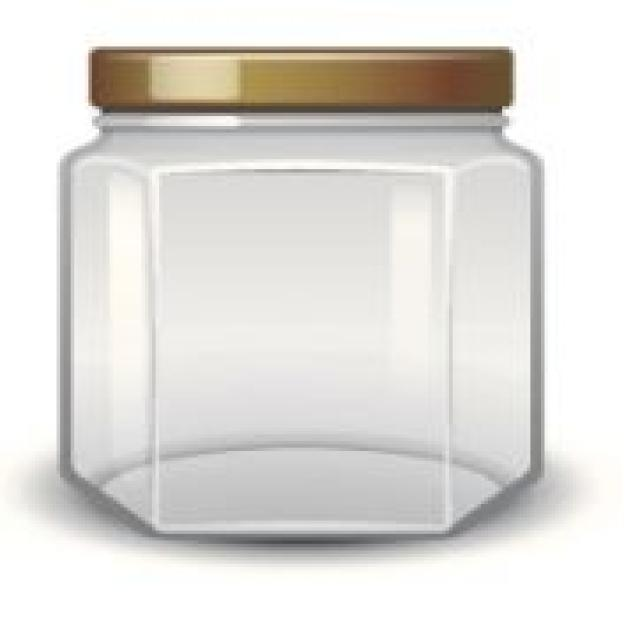electronic: (54, 46, 546, 550)
